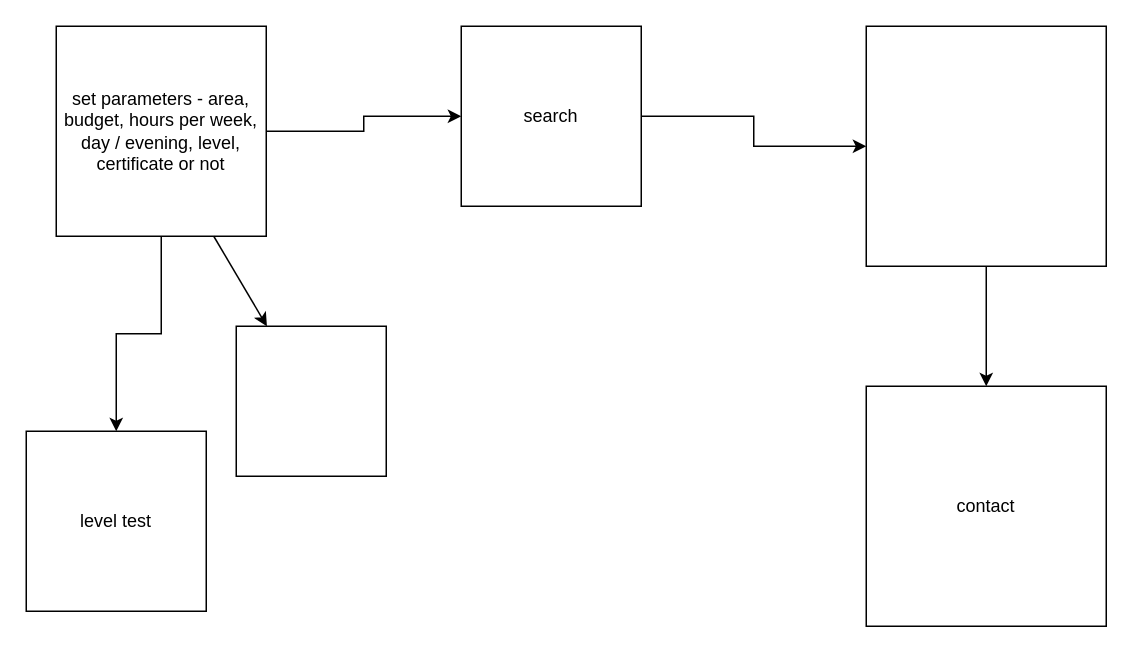
Some shapes in this 1133 by 653 pixel diagram are drawn without their labels. Here are the shapes that lost their labels. From the top down, the box of each, then its label:
(865, 25, 1106, 266): get providers
(235, 325, 386, 476): cert type needed
